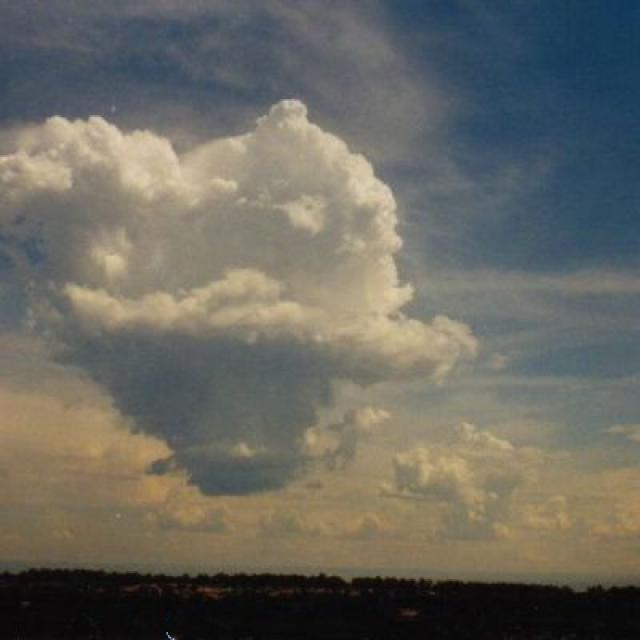Cs: (1, 22, 640, 511)
